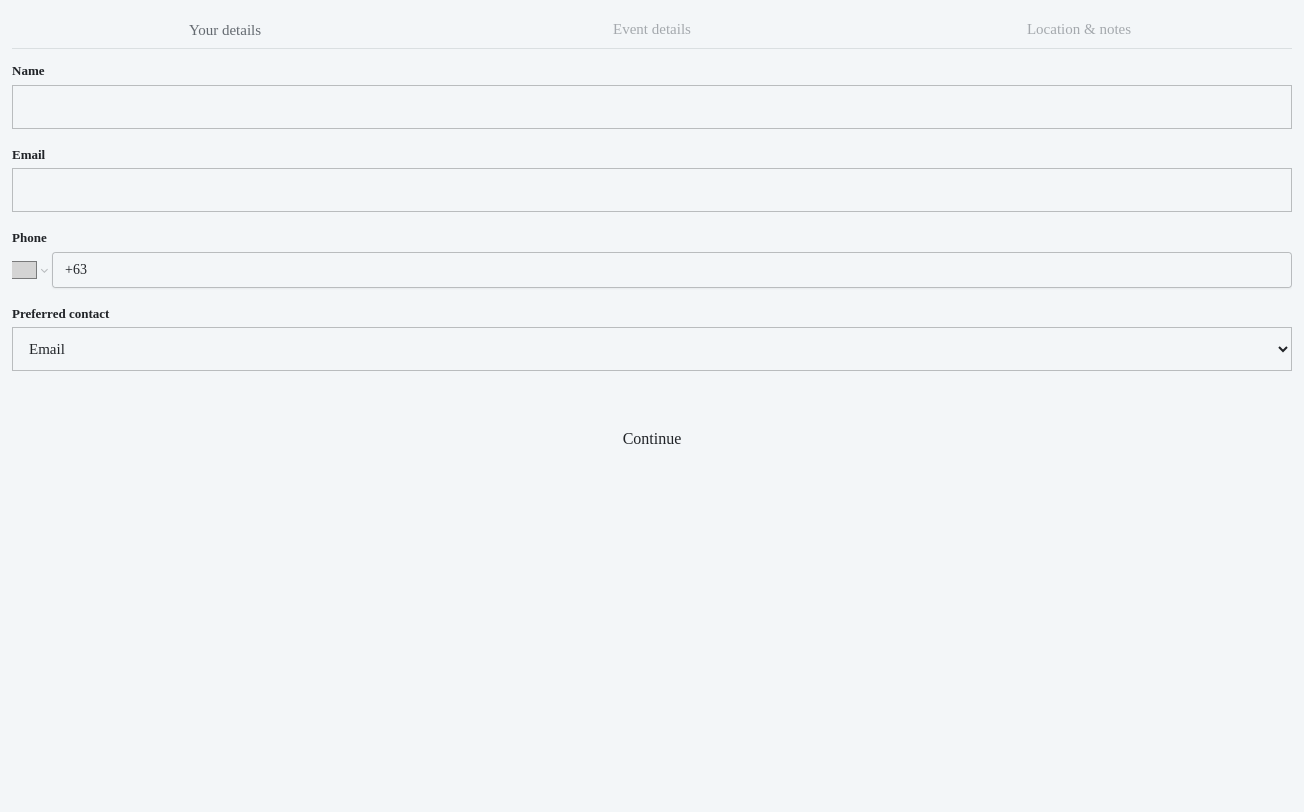
it: ContactForm › session cards inherit portfolio theme instead of the CRM card tokens
Click the tab "Event details": coordinates (652, 30) x1=439 y1=12 x2=865 y2=48
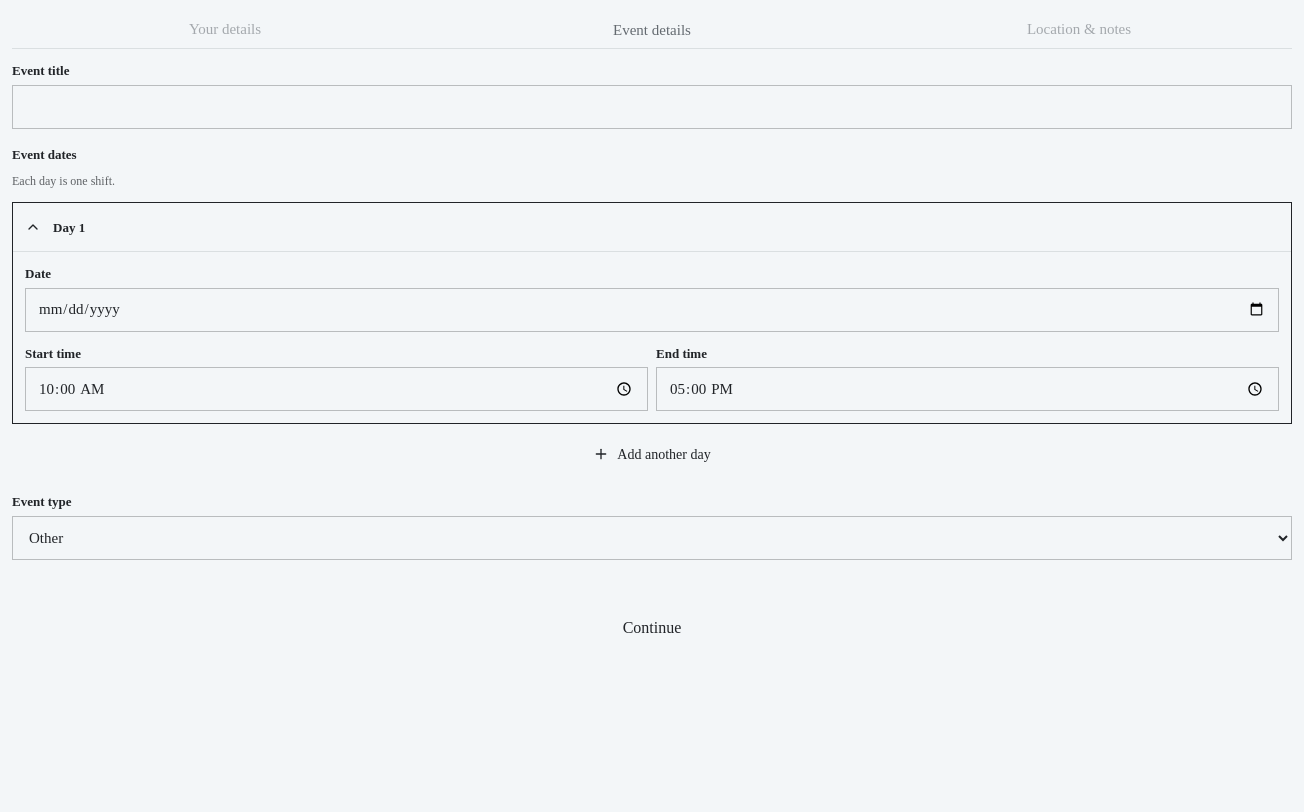
expect the text "Day 1" is shown: met, box x1=53 y1=220 x2=85 y2=235
